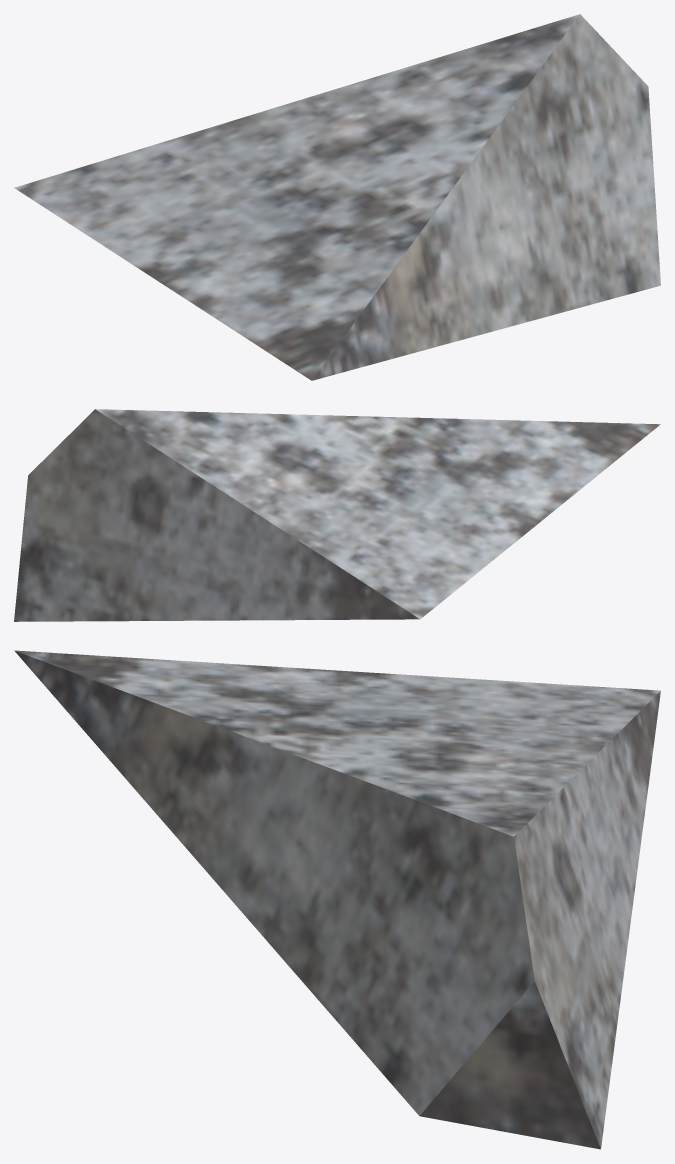
File: Asteroid_Large_001_02_009_03_043.fbx
3 renders of one model, top to bottom at view 1: azimuth 30°, elevation 25°; view 2: azimuth 150°, elevation 25°; view 3: azimuth 270°, elevation 25°, orthographic. The views are drawn at different scales.
Visible parts, largest first — view 1: Asteroid_Large_001_02_009_03_043; view 2: Asteroid_Large_001_02_009_03_043; view 3: Asteroid_Large_001_02_009_03_043.
Part boxes in pixels (x1,y1,x2,y2): Asteroid_Large_001_02_009_03_043: (14, 14, 660, 380); Asteroid_Large_001_02_009_03_043: (14, 409, 660, 621); Asteroid_Large_001_02_009_03_043: (14, 650, 660, 1149).
Bounding box in the file's own units: 4.45 × 1.93 × 4.05.
